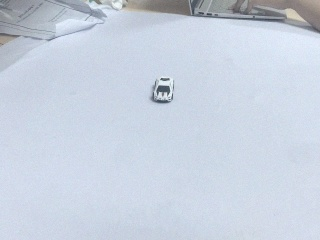toy_car: (153, 77, 174, 102)
